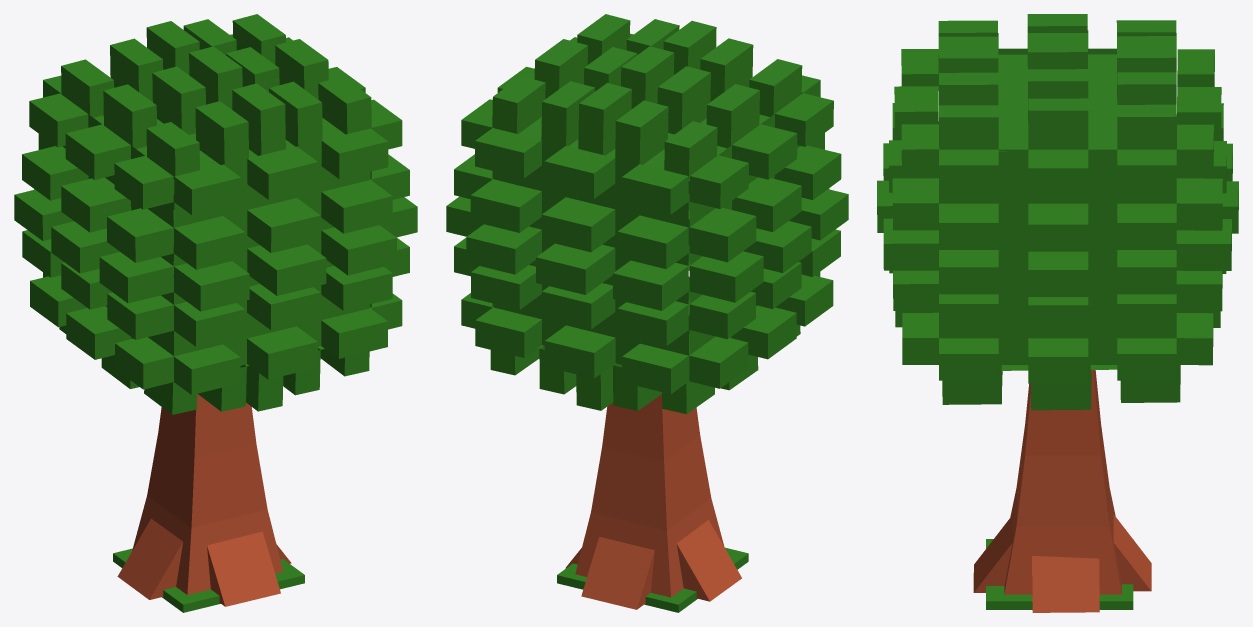
The model's file is ARVORE1.fbx.
The picture shows the model from 3 angles, left to right: view 1: azimuth 30°, elevation 25°; view 2: azimuth 150°, elevation 25°; view 3: azimuth 270°, elevation 25°; orthographic projection. The views are drawn at different scales.
Visible parts, largest first — view 1: Cubo.002; view 2: Cubo.002; view 3: Cubo.002.
Boxes of the visible parts, box(x1,y1,x2,y2) form: Cubo.002: box(14, 14, 417, 612); Cubo.002: box(446, 14, 848, 612); Cubo.002: box(877, 14, 1238, 612).
Bounding box in the file's own units: 417 × 679 × 415.
